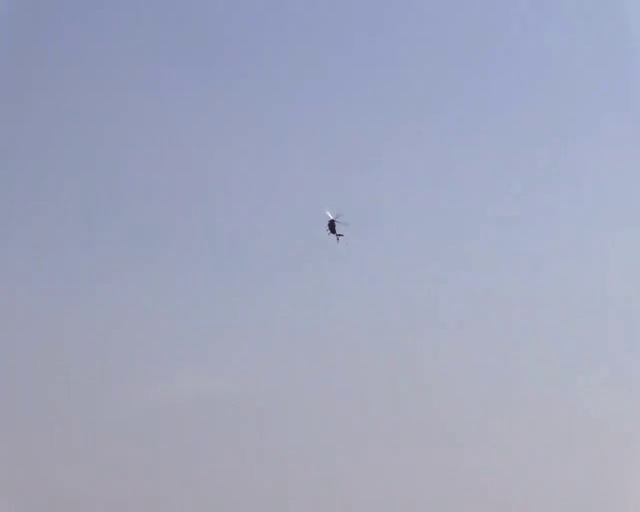HELICOPTER: (324, 209, 348, 243)
